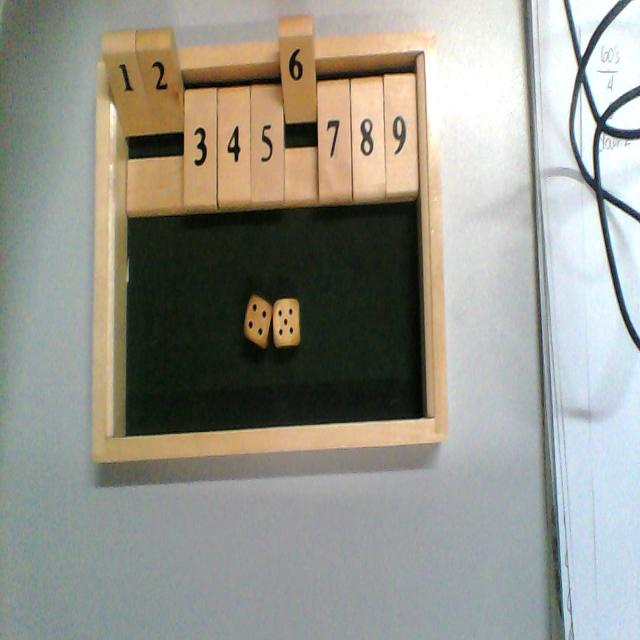4: (234, 290, 272, 348)
5: (272, 281, 304, 359)
O1: (102, 31, 136, 214)
O2: (138, 27, 178, 212)
O9: (279, 15, 320, 209)
